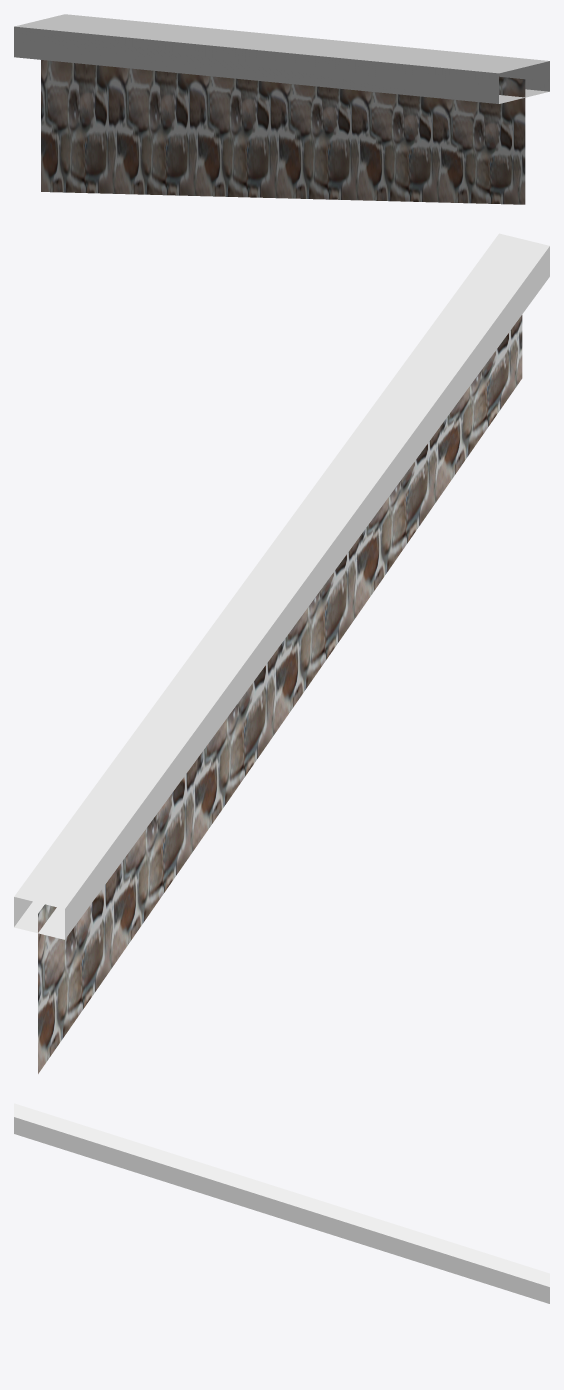
File: Straße_Treppe_Seitenteil_2001.glb
3 views of the same model, one above another, from view 1: azimuth 30°, elevation 25°; view 2: azimuth 150°, elevation 25°; view 3: azimuth 270°, elevation 25° (orthographic). The views are drawn at different scales.
Parts seen in each view (by area): view 1: pPlaneShape184, pCylinderShape4; view 2: pCylinderShape4, pPlaneShape184; view 3: pCylinderShape4.
Boxes of the visible parts, box(x1,y1,x2,y2) form: pPlaneShape184: box(41, 60, 525, 204); pCylinderShape4: box(14, 14, 549, 103); pCylinderShape4: box(14, 233, 549, 939); pPlaneShape184: box(38, 315, 522, 1073); pCylinderShape4: box(14, 1103, 549, 1303).
Size of the model in its own units: 0.0607 by 0.5469 by 1.
2 materials, 1 textured.
